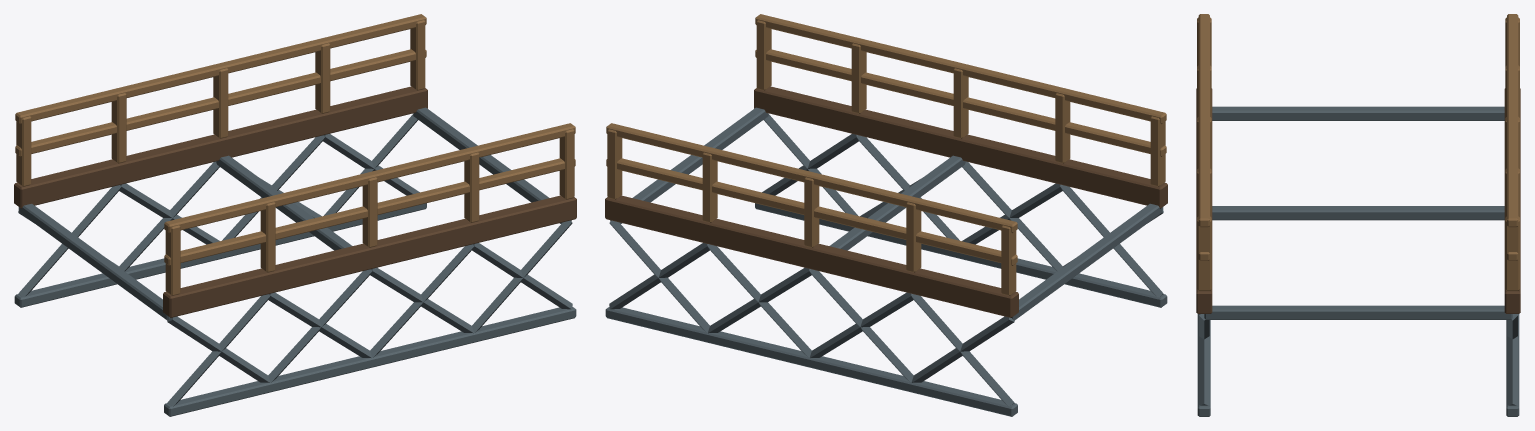
Rendered from bridge_truss.glb.
3 renders of one model, left to right at view 1: azimuth 30°, elevation 25°; view 2: azimuth 150°, elevation 25°; view 3: azimuth 270°, elevation 25°, orthographic. The views are drawn at different scales.
Parts seen in each view (by area): view 1: Keep_Mesh, Occlude_Rail_Mesh; view 2: Keep_Mesh, Occlude_Rail_Mesh; view 3: Keep_Mesh, Occlude_Rail_Mesh.
Part boxes in pixels (<box>): Keep_Mesh: <box>14,14,576,416</box>; Occlude_Rail_Mesh: <box>164,123,575,295</box>; Keep_Mesh: <box>605,86,1167,416</box>; Occlude_Rail_Mesh: <box>755,14,1166,186</box>; Keep_Mesh: <box>1196,14,1520,416</box>; Occlude_Rail_Mesh: <box>1197,14,1211,290</box>.
Size of the model in its own units: 6 by 2.7 by 4.
